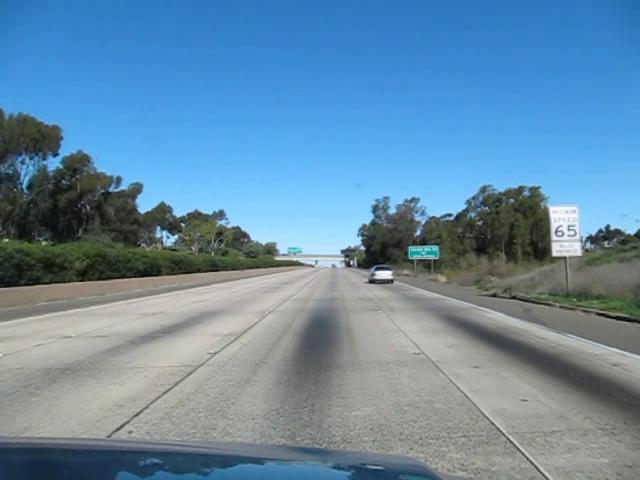speedLimit65: (548, 204, 580, 242)
